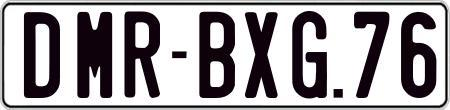6: (400, 9, 435, 100)
7: (351, 9, 387, 96)
B: (196, 9, 232, 100)
D: (24, 11, 60, 97)
G: (289, 8, 325, 98)
M: (75, 10, 113, 97)
R: (122, 8, 161, 96)
X: (242, 9, 276, 95)
